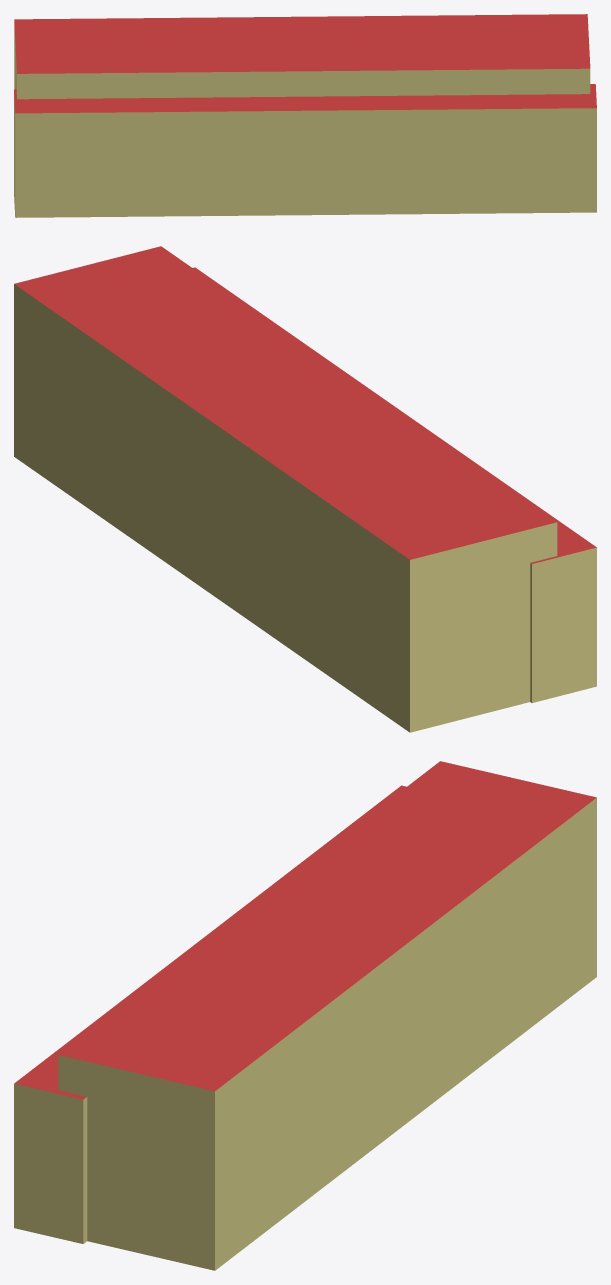
3 renders of one model, top to bottom at view 1: azimuth 30°, elevation 25°; view 2: azimuth 150°, elevation 25°; view 3: azimuth 270°, elevation 25°, orthographic. The views are drawn at different scales.
Parts seen in each view (by area): view 1: group_7, group_3, group_4, group_6; view 2: group_4, group_3, group_7, group_6; view 3: group_4, group_3, group_7, group_6.
Part boxes in pixels (x1,y1,x2,y2): group_7: [14, 93, 596, 217]; group_3: [14, 14, 590, 73]; group_4: [14, 24, 590, 99]; group_6: [14, 84, 596, 113]; group_4: [14, 284, 557, 732]; group_3: [14, 246, 556, 559]; group_7: [530, 547, 596, 702]; group_6: [193, 267, 596, 563]; group_4: [58, 798, 596, 1270]; group_3: [59, 761, 596, 1091]; group_7: [14, 1083, 87, 1243]; group_6: [14, 785, 406, 1099].
Bounding box in the file's own units: 60.07 × 43.41 × 14.75.
